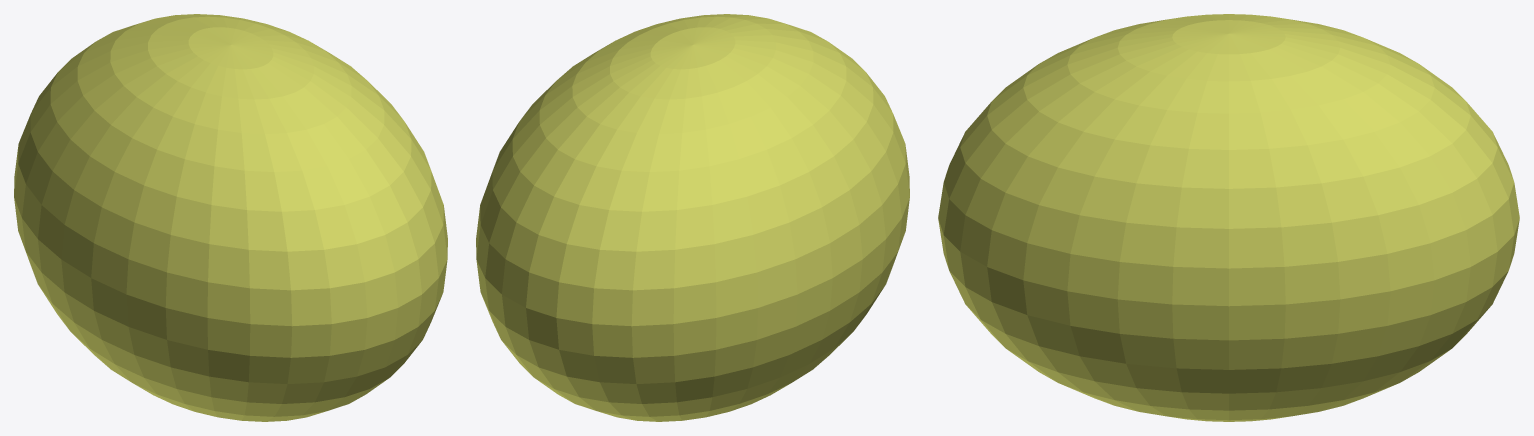
File: playerBullet.obj
The picture shows the model from 3 angles, left to right: view 1: azimuth 30°, elevation 25°; view 2: azimuth 150°, elevation 25°; view 3: azimuth 270°, elevation 25°; orthographic projection. The views are drawn at different scales.
Visible parts, largest first — view 1: Sphere; view 2: Sphere; view 3: Sphere.
Part boxes in pixels (box(x1,y1,x2,y2)): Sphere: box(14, 14, 447, 421); Sphere: box(476, 14, 909, 421); Sphere: box(938, 14, 1519, 421).
Bounding box in the file's own units: 0.574 × 0.5592 × 0.8.
